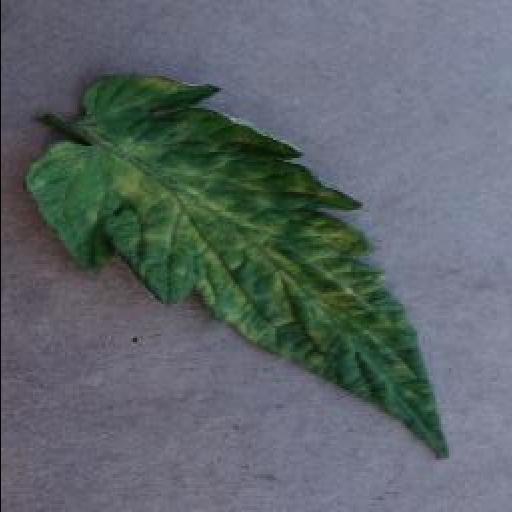disease_tomato: (20, 80, 452, 458)
